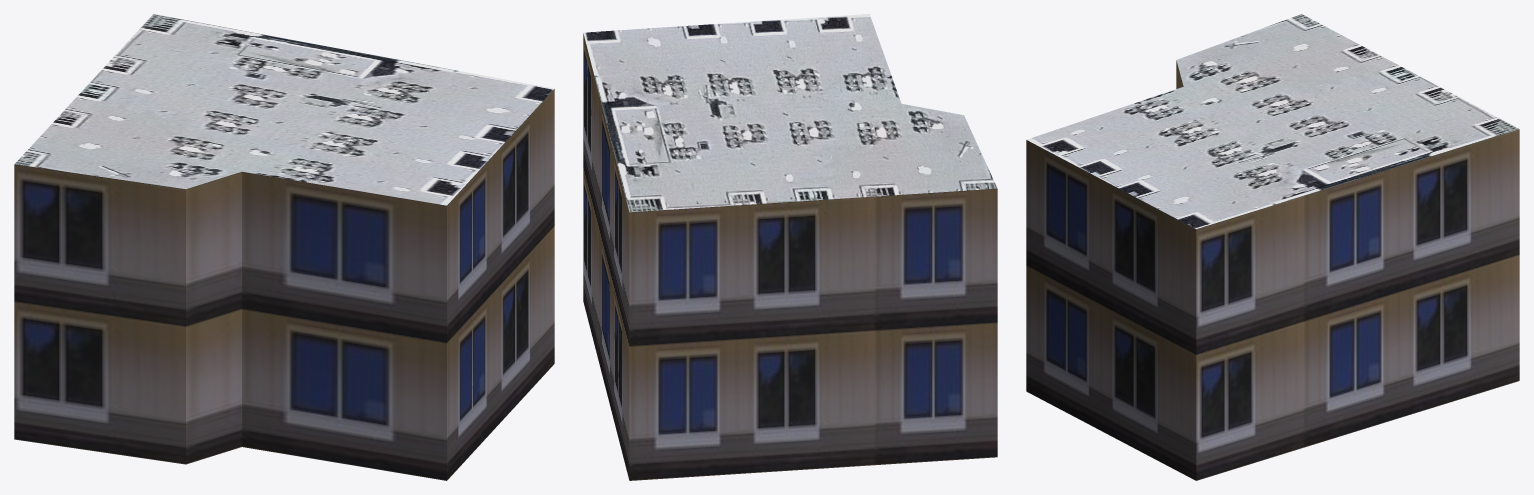
Rendered from ResTex__1441.fbx.
The picture shows the model from 3 angles, left to right: view 1: azimuth 30°, elevation 25°; view 2: azimuth 150°, elevation 25°; view 3: azimuth 270°, elevation 25°; orthographic projection. The views are drawn at different scales.
Parts seen in each view (by area): view 1: CityEngineMaterial_5_m, CityEngineMaterial_4_m; view 2: CityEngineMaterial_5_m, CityEngineMaterial_4_m; view 3: CityEngineMaterial_5_m, CityEngineMaterial_4_m.
Boxes of the visible parts, x1,y1,x2,y2 form: CityEngineMaterial_5_m: [14, 89, 554, 480]; CityEngineMaterial_4_m: [15, 14, 553, 205]; CityEngineMaterial_5_m: [583, 33, 997, 480]; CityEngineMaterial_4_m: [583, 14, 997, 212]; CityEngineMaterial_5_m: [1026, 60, 1519, 480]; CityEngineMaterial_4_m: [1026, 14, 1519, 229].
Size of the model in its own units: 11 by 6 by 10.66.
2 materials, 2 textured.
